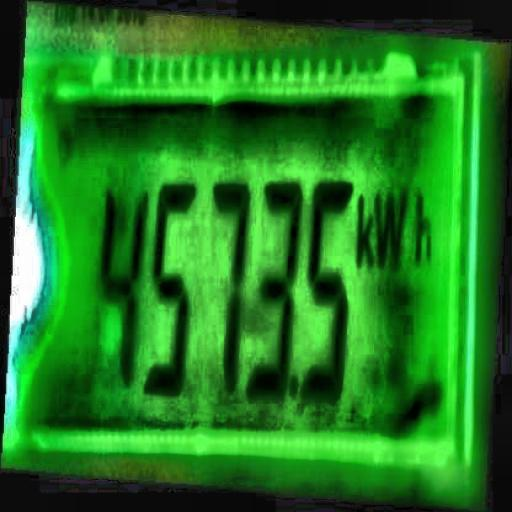DISPLAY_REGION: (4, 49, 476, 481)
SERIAL_REGION: (88, 178, 417, 397)
